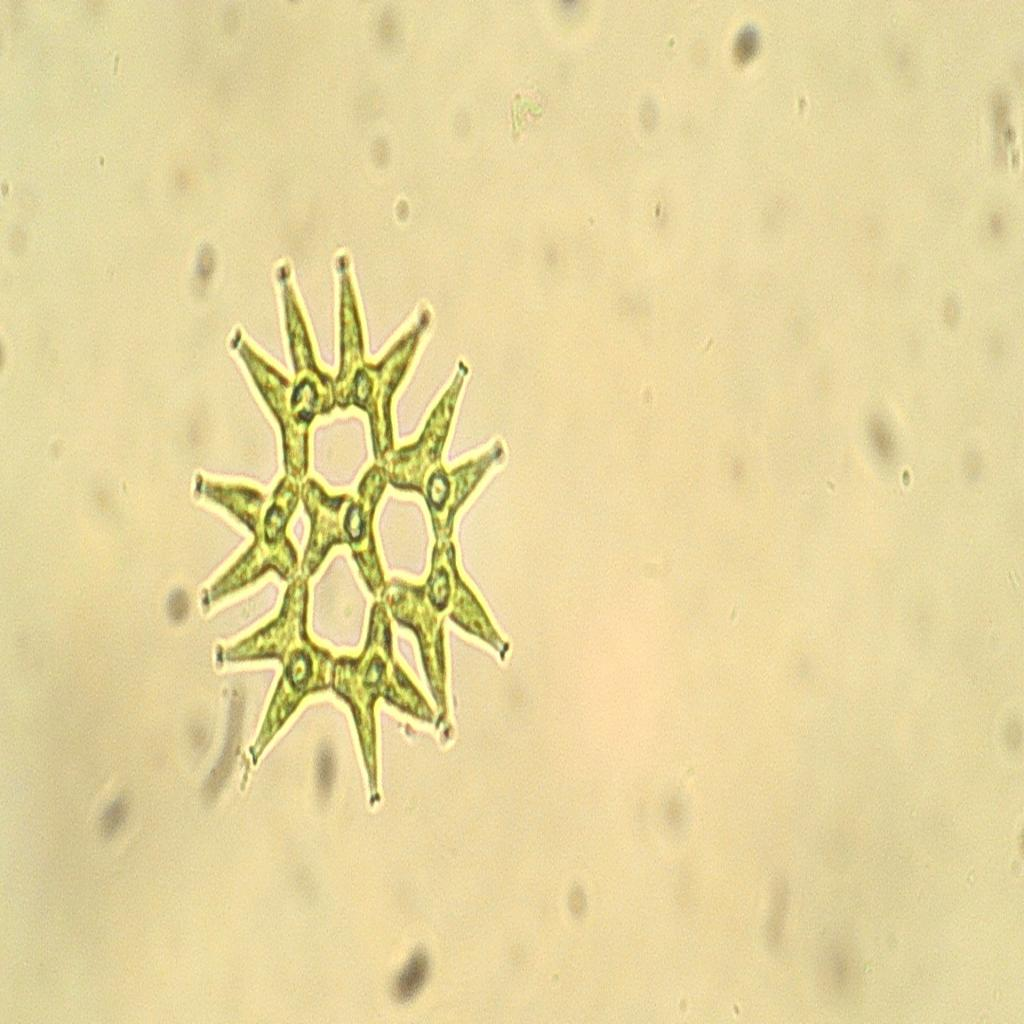Pediastrum_1T: (160, 228, 529, 824)
